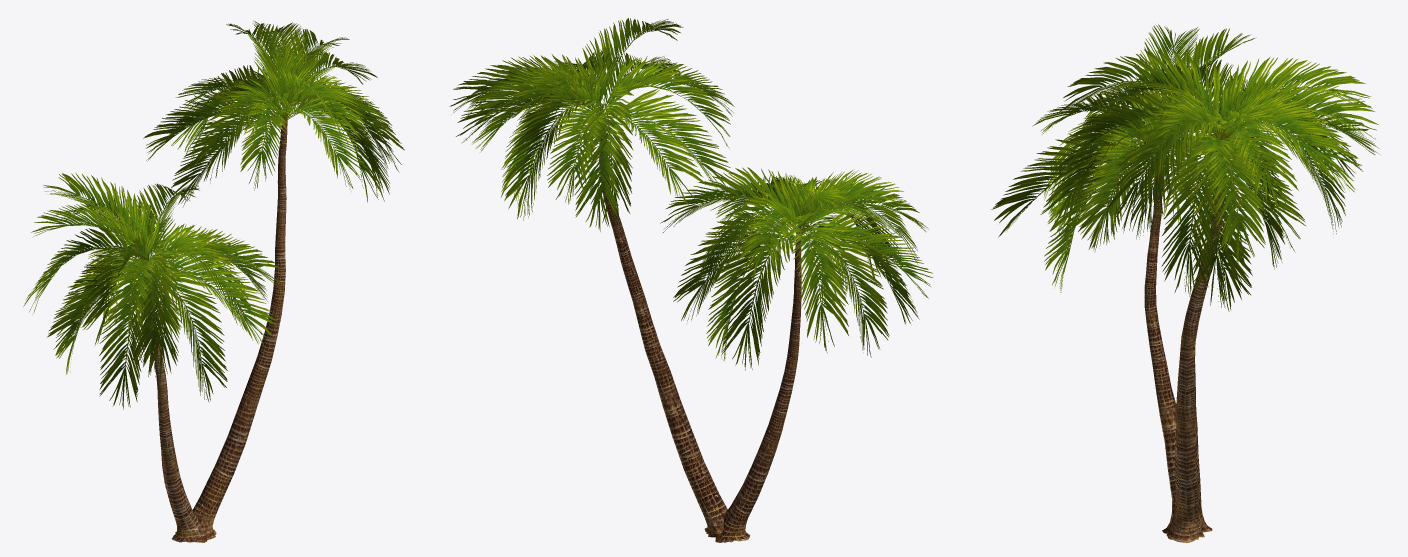
The picture shows the model from 3 angles, left to right: view 1: azimuth 30°, elevation 25°; view 2: azimuth 150°, elevation 25°; view 3: azimuth 270°, elevation 25°; orthographic projection. The views are drawn at different scales.
Parts seen in each view (by area): view 1: 2_palm_low_poly; view 2: 2_palm_low_poly; view 3: 2_palm_low_poly.
Boxes of the visible parts, x1=… form: 2_palm_low_poly: x1=23, y1=20, x2=404, y2=542; 2_palm_low_poly: x1=449, y1=18, x2=932, y2=542; 2_palm_low_poly: x1=991, y1=24, x2=1379, y2=542.
Bounding box in the file's own units: 4.33 × 4.68 × 3.3.
Materials: 2 (2 with a texture image).
